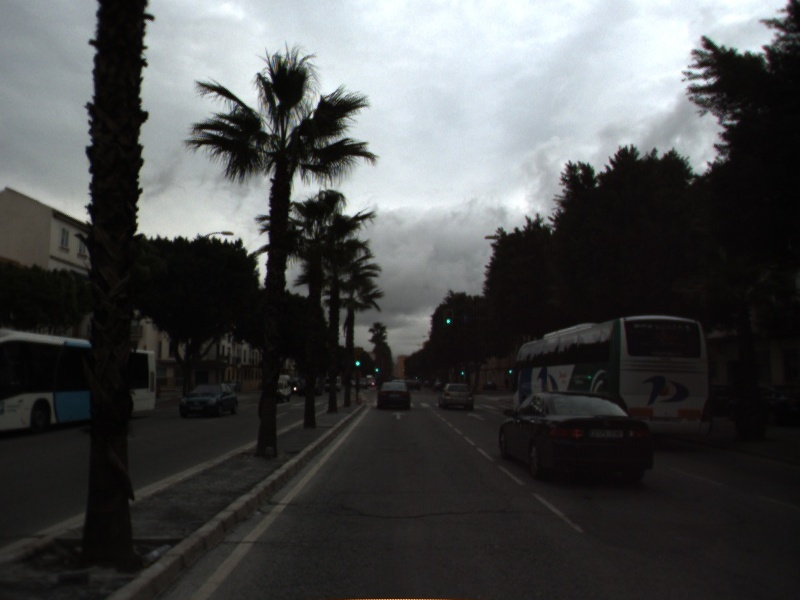STRAIGHT: (465, 410, 488, 423), (389, 409, 409, 421)
